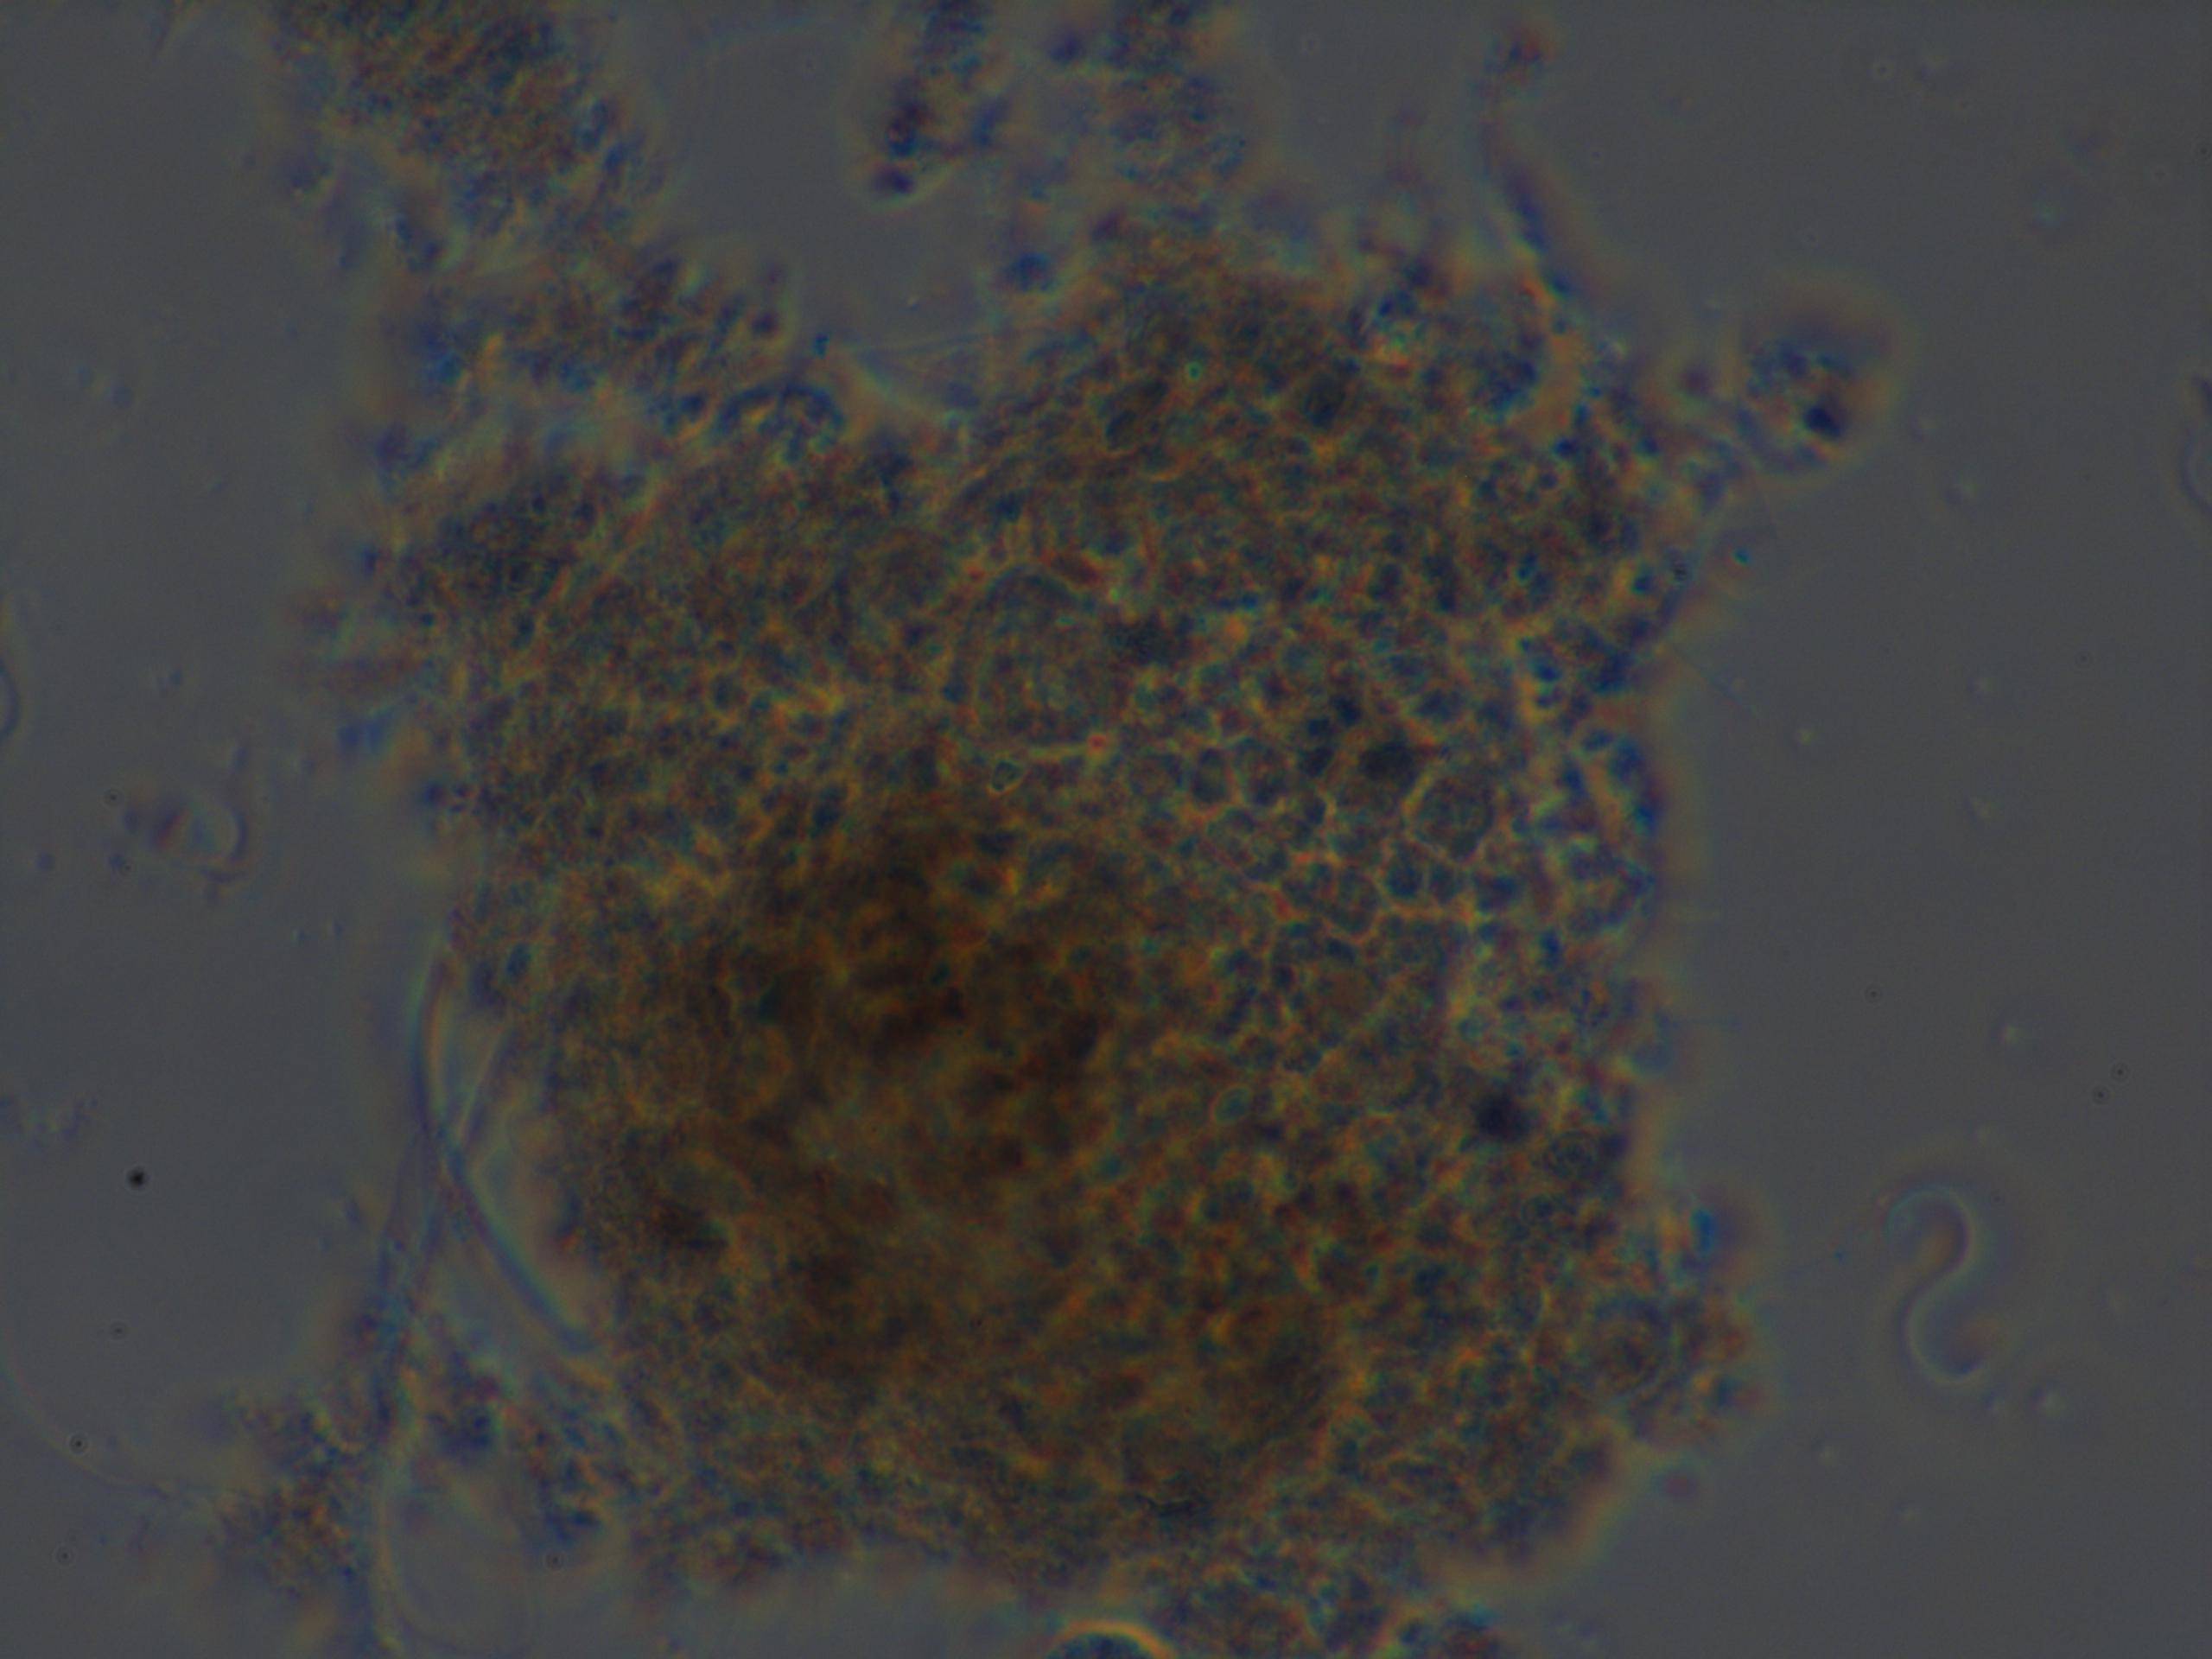spherical_floc: (355, 237, 1761, 1659)
